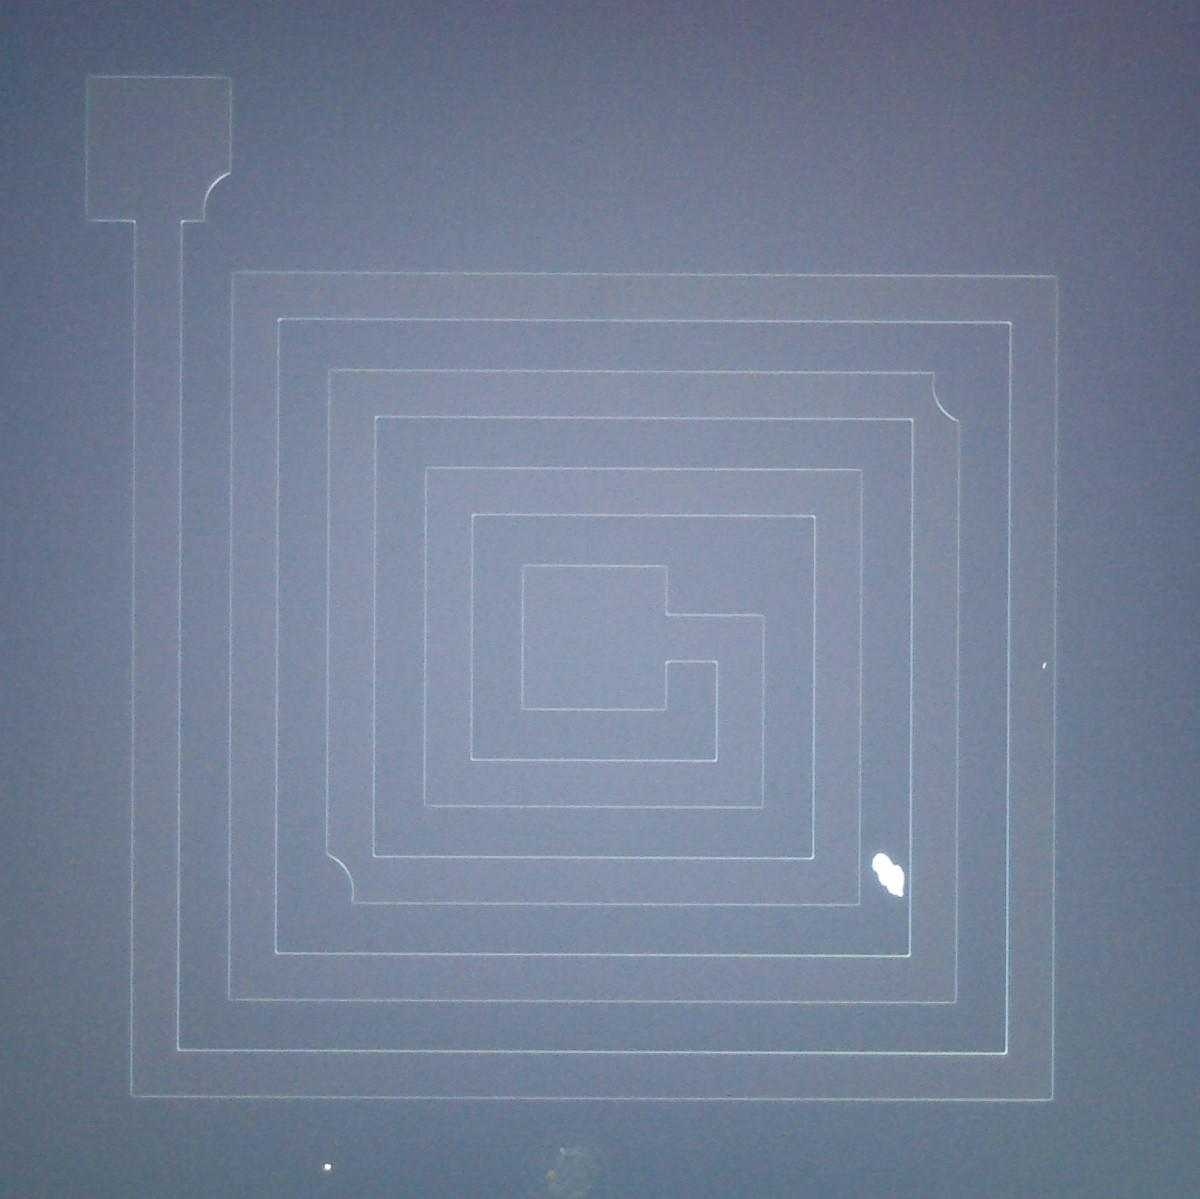B_point: (536, 1140, 603, 1199), (866, 851, 910, 899)
cut: (299, 820, 414, 921), (887, 357, 985, 464), (188, 145, 256, 240)
s_point: (1040, 661, 1050, 672), (323, 1162, 333, 1173)
